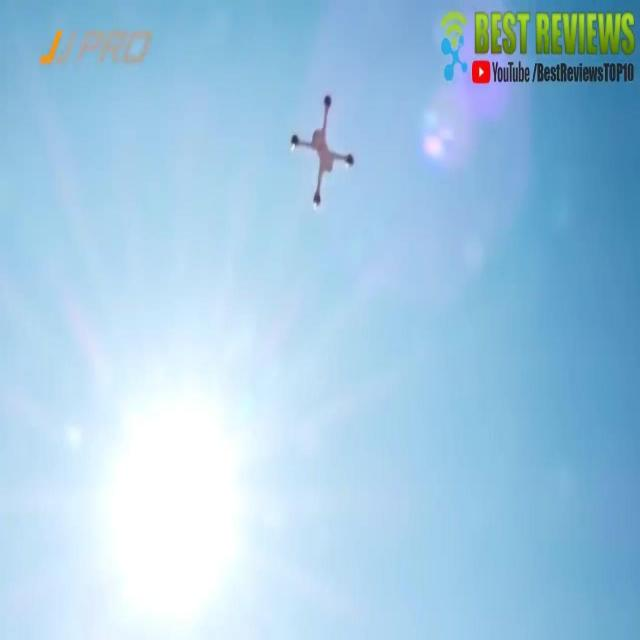UAV: (290, 95, 354, 206)
